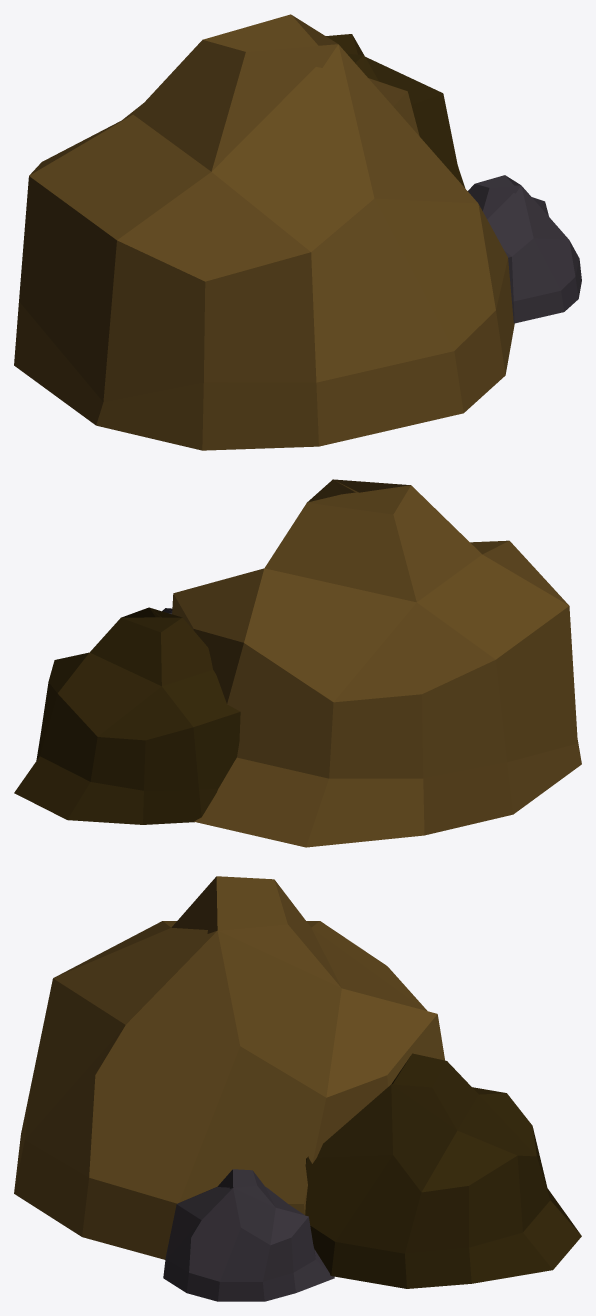
File: rocks 1.fbx
3 renders of one model, top to bottom at view 1: azimuth 30°, elevation 25°; view 2: azimuth 150°, elevation 25°; view 3: azimuth 270°, elevation 25°, orthographic. The views are drawn at different scales.
Parts seen in each view (by area): view 1: bigrock, medrock, smallrock; view 2: bigrock, smallrock; view 3: bigrock, smallrock, medrock.
Part boxes in pixels (left/top/right/bottom): bigrock: left=14, top=14, right=514, bottom=450; medrock: left=468, top=175, right=581, bottom=323; smallrock: left=326, top=34, right=464, bottom=187; bigrock: left=172, top=479, right=581, bottom=847; smallrock: left=14, top=607, right=240, bottom=824; bigrock: left=14, top=876, right=444, bottom=1259; smallrock: left=305, top=1053, right=581, bottom=1288; medrock: left=163, top=1169, right=334, bottom=1301.
Bounding box in the file's own units: 228 × 134 × 244.
